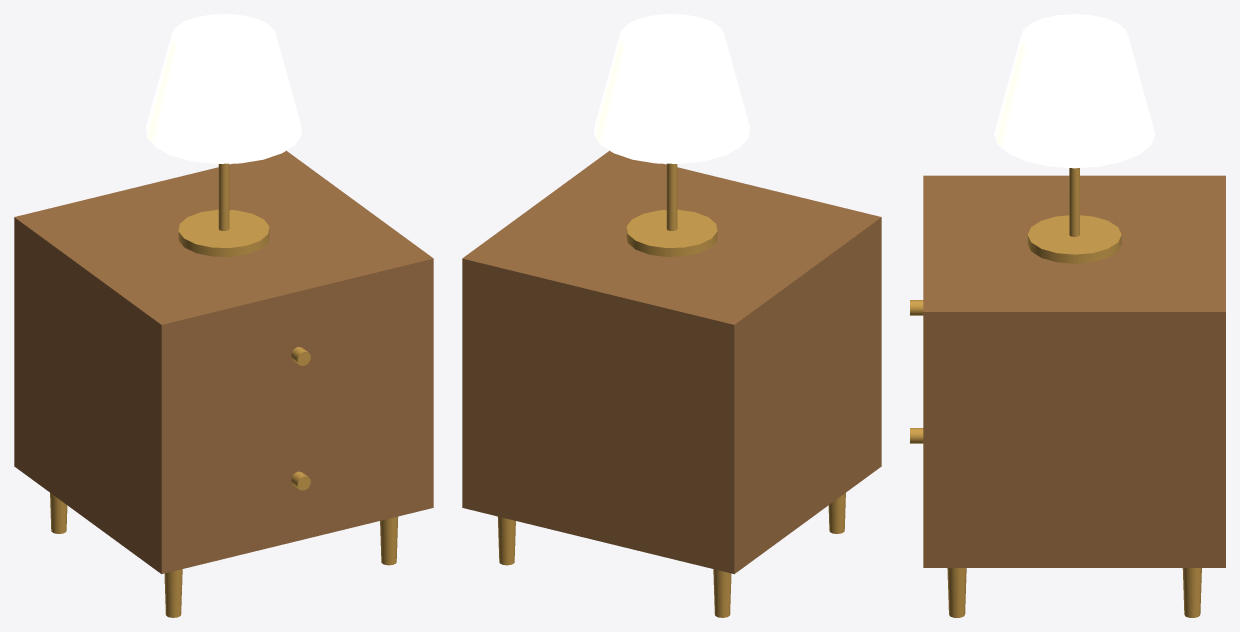
The model's file is side_table.glb.
The picture shows the model from 3 angles, left to right: view 1: azimuth 30°, elevation 25°; view 2: azimuth 150°, elevation 25°; view 3: azimuth 270°, elevation 25°; orthographic projection. The views are drawn at different scales.
Bounding box in the file's own units: 0.48 × 0.86 × 0.47.
